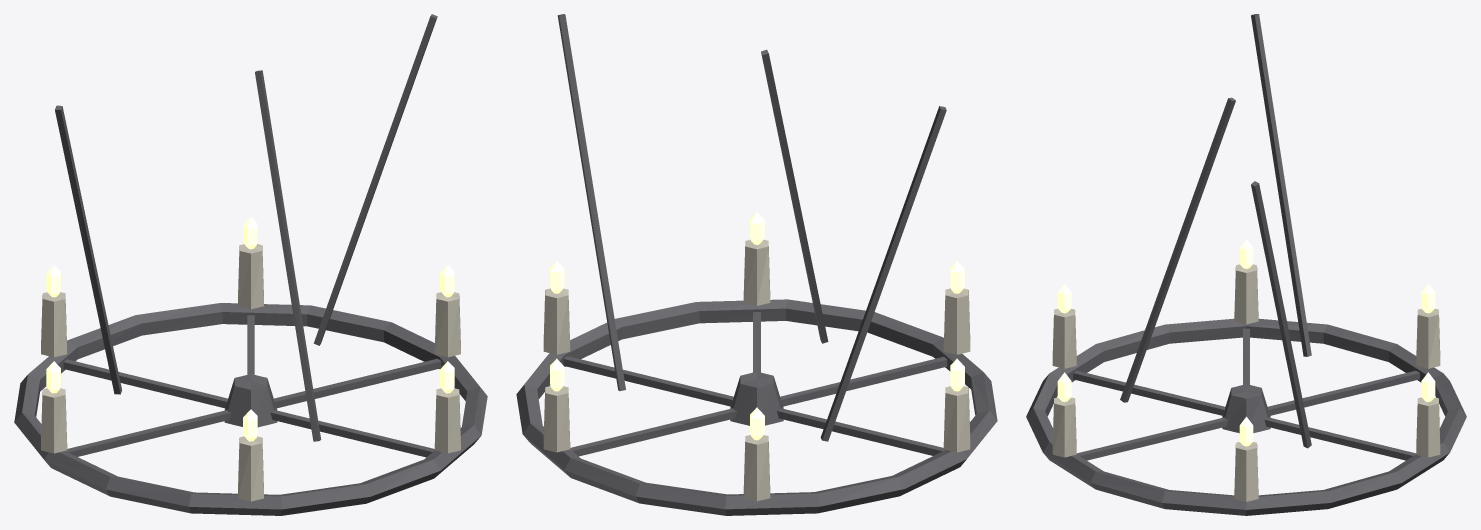
Rendered from chandelier.glb.
3 renders of one model, left to right at view 1: azimuth 30°, elevation 25°; view 2: azimuth 150°, elevation 25°; view 3: azimuth 270°, elevation 25°, orthographic. The views are drawn at different scales.
Visible parts, largest first — view 1: chandelier; view 2: chandelier; view 3: chandelier.
Boxes of the visible parts, x1=… form: chandelier: x1=14, y1=14, x2=487, y2=515; chandelier: x1=516, y1=14, x2=997, y2=515; chandelier: x1=1026, y1=14, x2=1466, y2=515.
Size of the model in its own units: 1.28 by 1.03 by 1.26.
